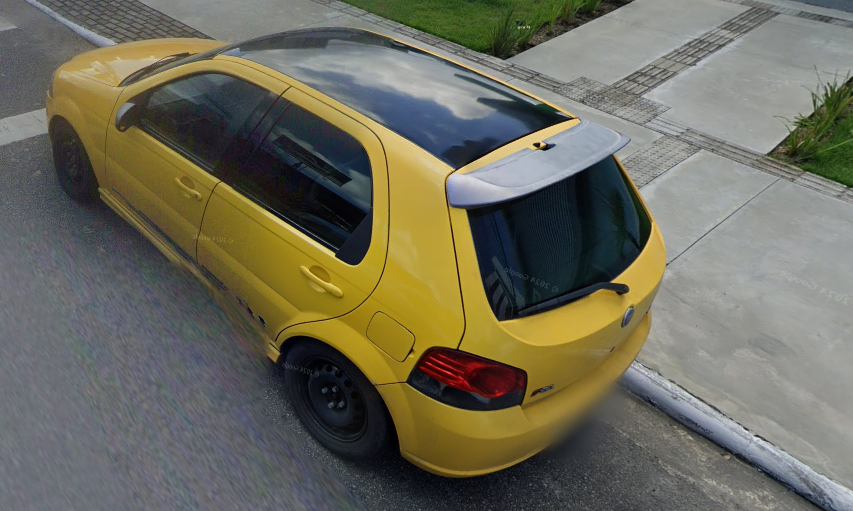car: (44, 24, 672, 483)
